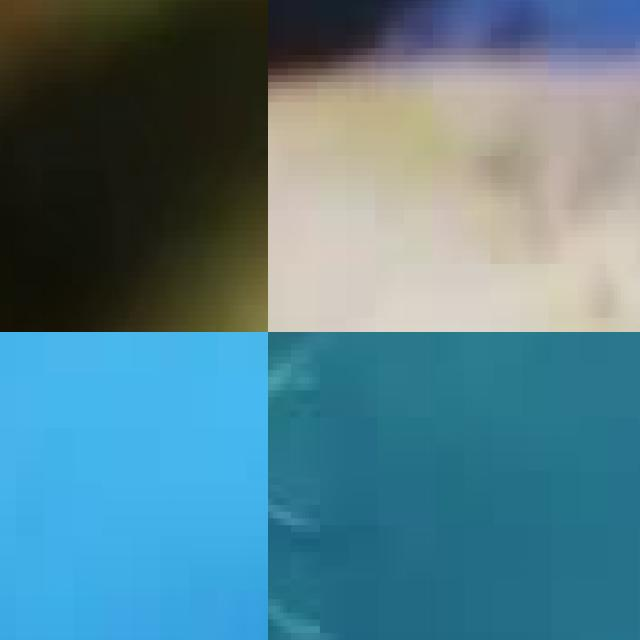fish: (0, 0, 268, 332), (268, 332, 468, 471)
